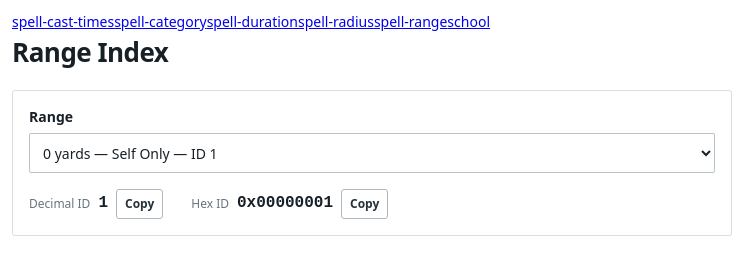
DBC reference pages › spell-range has one dropdown and displays the selected ID without a table
Select "0 yards — Self Only — ID 1" in the dropdown labelled "Range" at coordinates (372, 153), box [29,133,715,173]
expect the text named "Decimal ID" reads "1": met, box [98,194,108,212]
expect the text named "Hex ID" reads "0x00000001": met, box [237,194,333,212]
Select "30–80 yards — Artillery Range — ID 136" in the dropdown labelled "Range" at coordinates (372, 153), box [29,133,715,173]
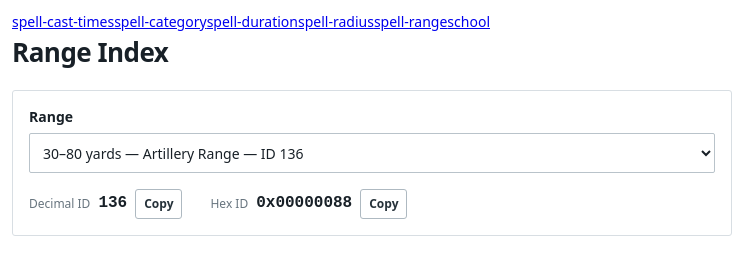
expect the text named "Decimal ID" reads "136": met, box [98,194,127,212]
